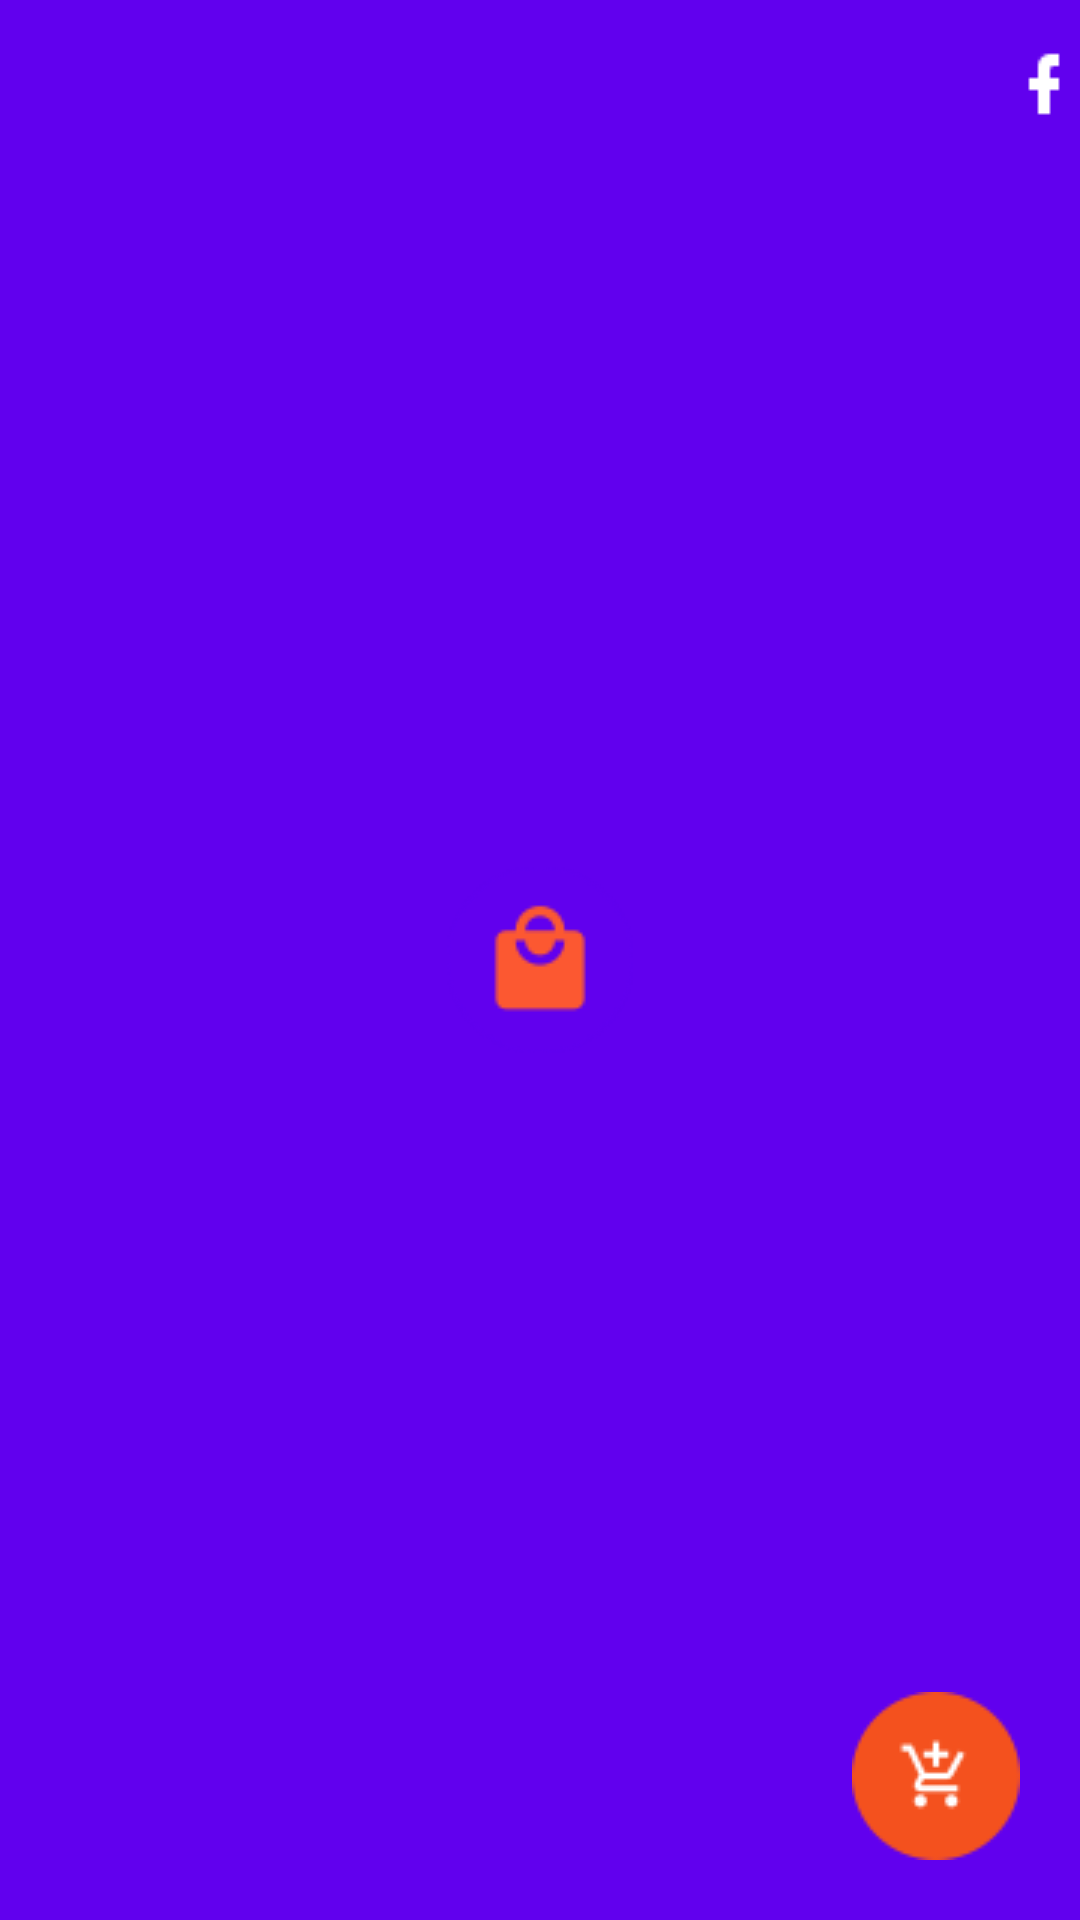

Icons on this 1080x1920 Android screen, each with its box as (x1, y1, x2, y2):
cart plus org: (852, 1692, 1020, 1860)
